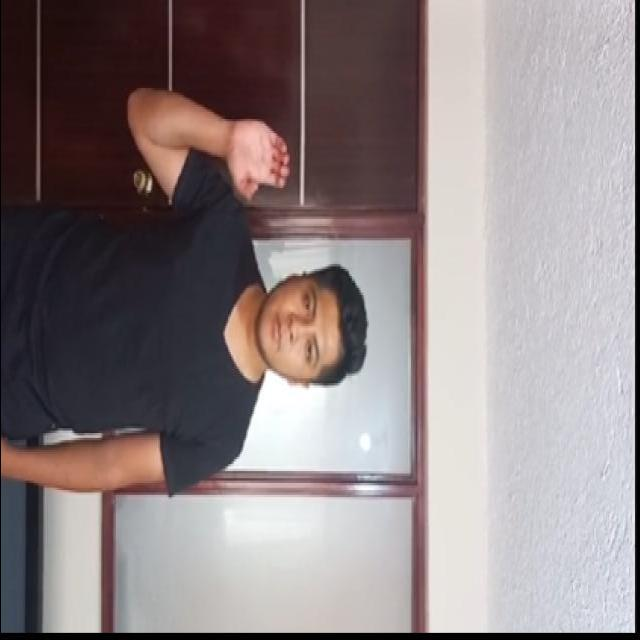C: (208, 83, 304, 220)
